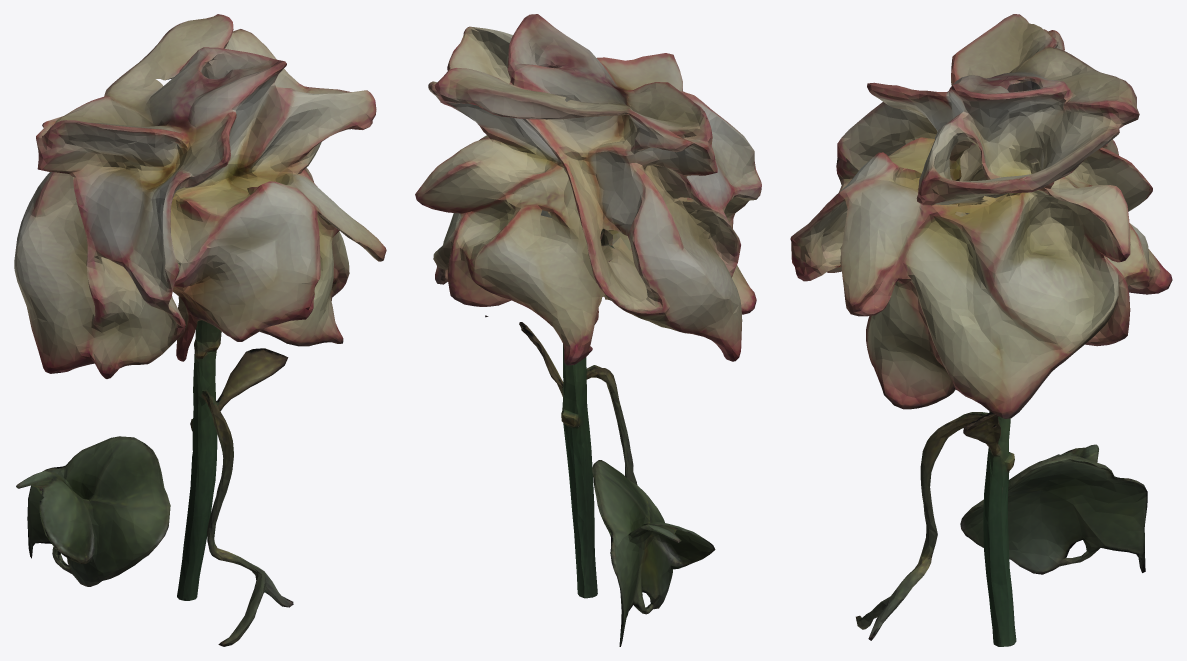
3 renders of one model, left to right at view 1: azimuth 30°, elevation 25°; view 2: azimuth 150°, elevation 25°; view 3: azimuth 270°, elevation 25°, orthographic. The views are drawn at different scales.
Parts seen in each view (by area): view 1: world; view 2: world; view 3: world.
Boxes of the visible parts, x1,y1,x2,y2 form: world: [14, 14, 386, 646]; world: [415, 14, 761, 646]; world: [790, 14, 1172, 646].
Bounding box in the file's own units: 0.5841 × 0.9808 × 0.5687.
1 material, 1 textured.
